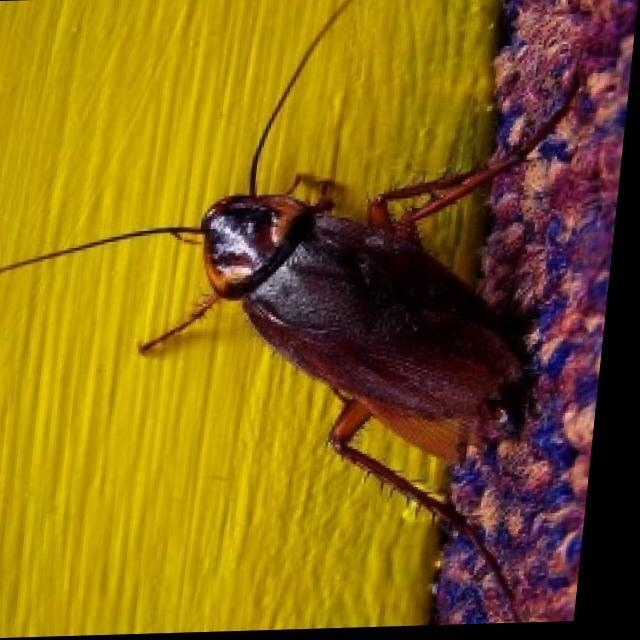cockroach: (170, 129, 566, 454)
